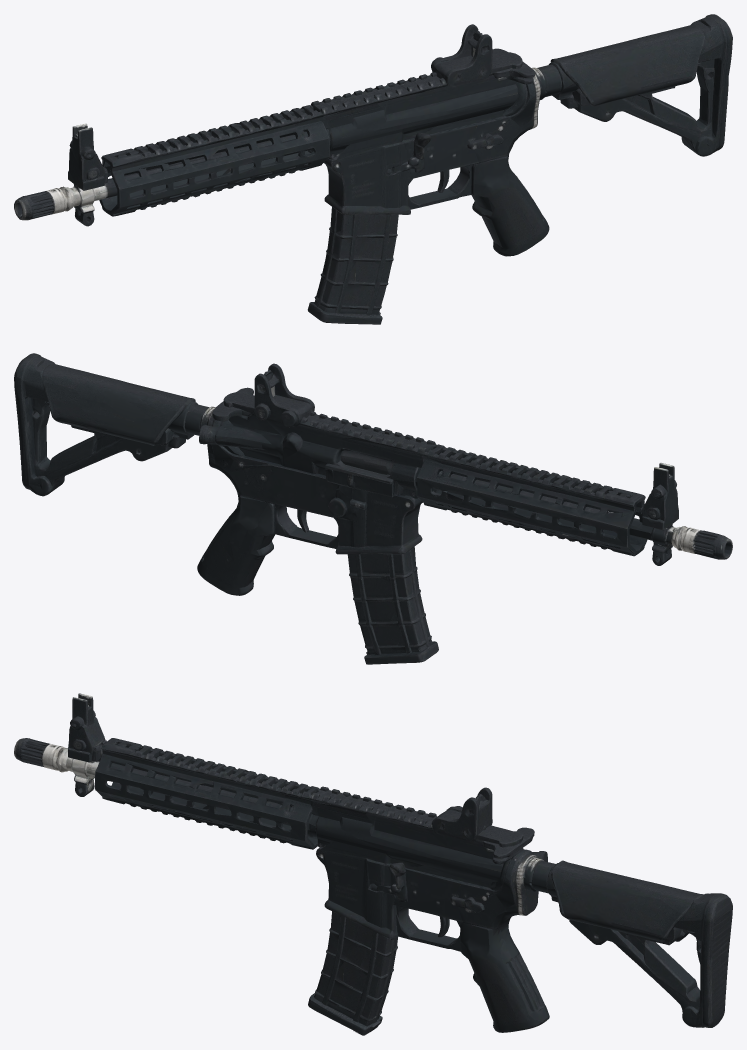
3 renders of one model, top to bottom at view 1: azimuth 30°, elevation 25°; view 2: azimuth 150°, elevation 25°; view 3: azimuth 330°, elevation 25°, orthographic.
Bounding box in the file's own units: 1.9 × 0.678 × 0.1759.
Materials: 1 (1 with a texture image).
